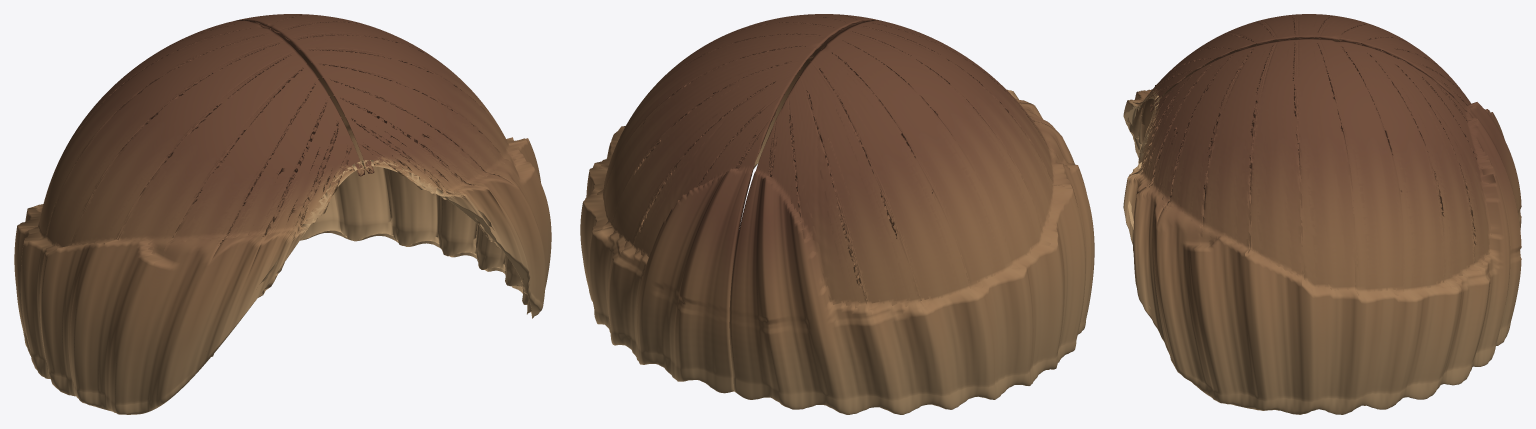
The model's file is Ombre-30907b967027253-hair.glb.
3 renders of one model, left to right at view 1: azimuth 30°, elevation 25°; view 2: azimuth 150°, elevation 25°; view 3: azimuth 270°, elevation 25°, orthographic. The views are drawn at different scales.
Parts seen in each view (by area): view 1: 226 hair / Hair252 / flowing sculpt middle.001; view 2: 226 hair / Hair252 / flowing sculpt middle.001; view 3: 226 hair / Hair252 / flowing sculpt middle.001.
Part boxes in pixels (left/top/right/bottom): 226 hair / Hair252 / flowing sculpt middle.001: left=14, top=14, right=551, bottom=414; 226 hair / Hair252 / flowing sculpt middle.001: left=580, top=14, right=1094, bottom=414; 226 hair / Hair252 / flowing sculpt middle.001: left=1123, top=14, right=1521, bottom=414.
Bounding box in the file's own units: 1.06 × 0.6426 × 0.832.
Materials: 1 (1 with a texture image).
